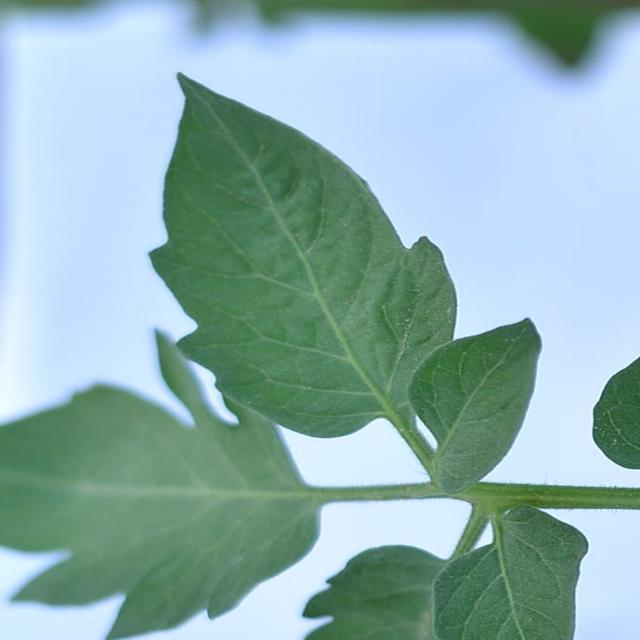healthy: (139, 67, 544, 496), (5, 326, 347, 640), (426, 501, 598, 640)
